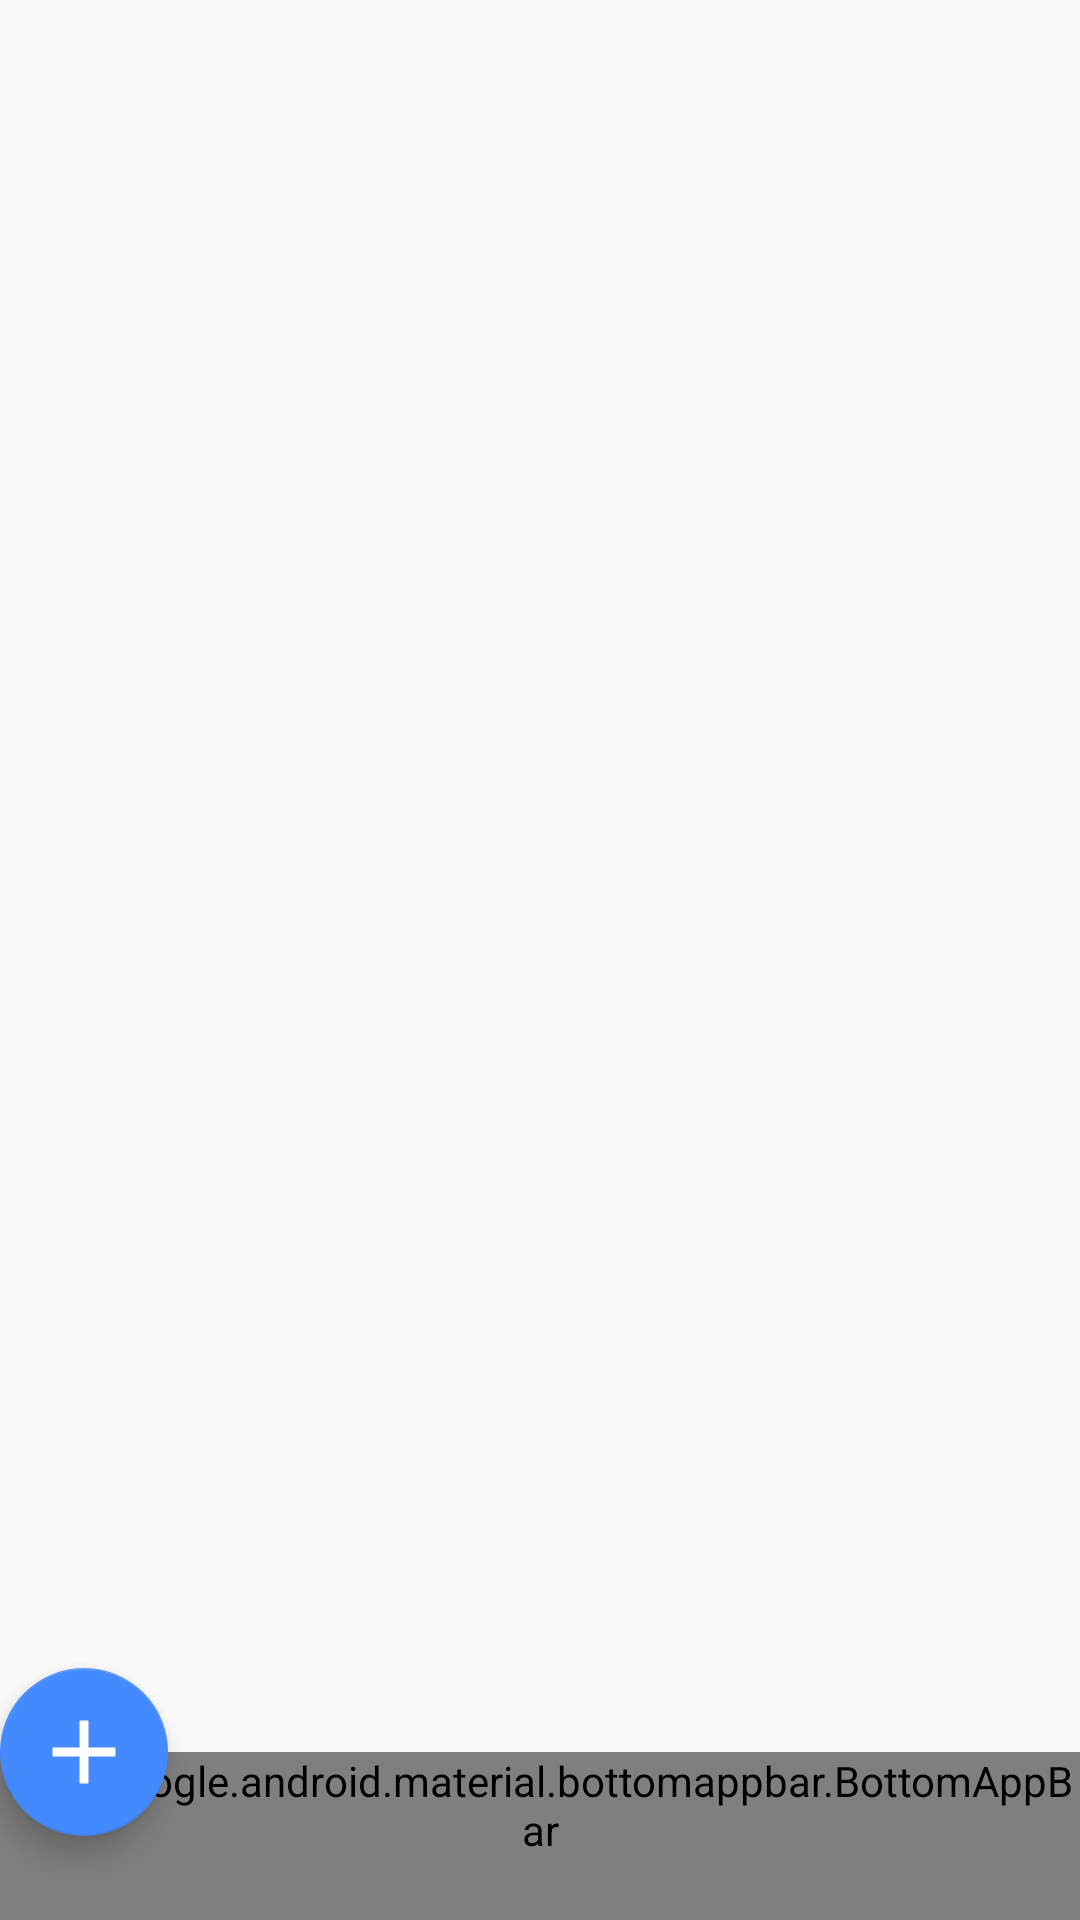

Screen size 1080*1920. Icon name, then its center in pixels as [x,y]:
add: [84,1752]
